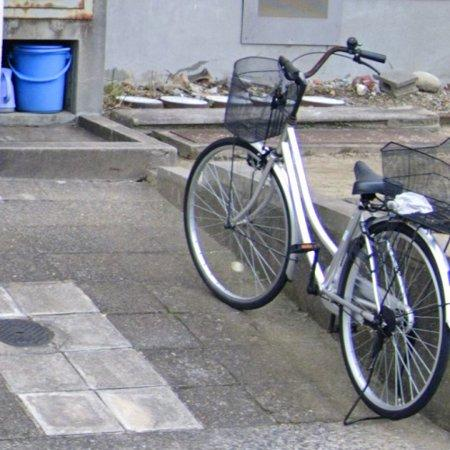bicycles: (184, 37, 450, 419)
